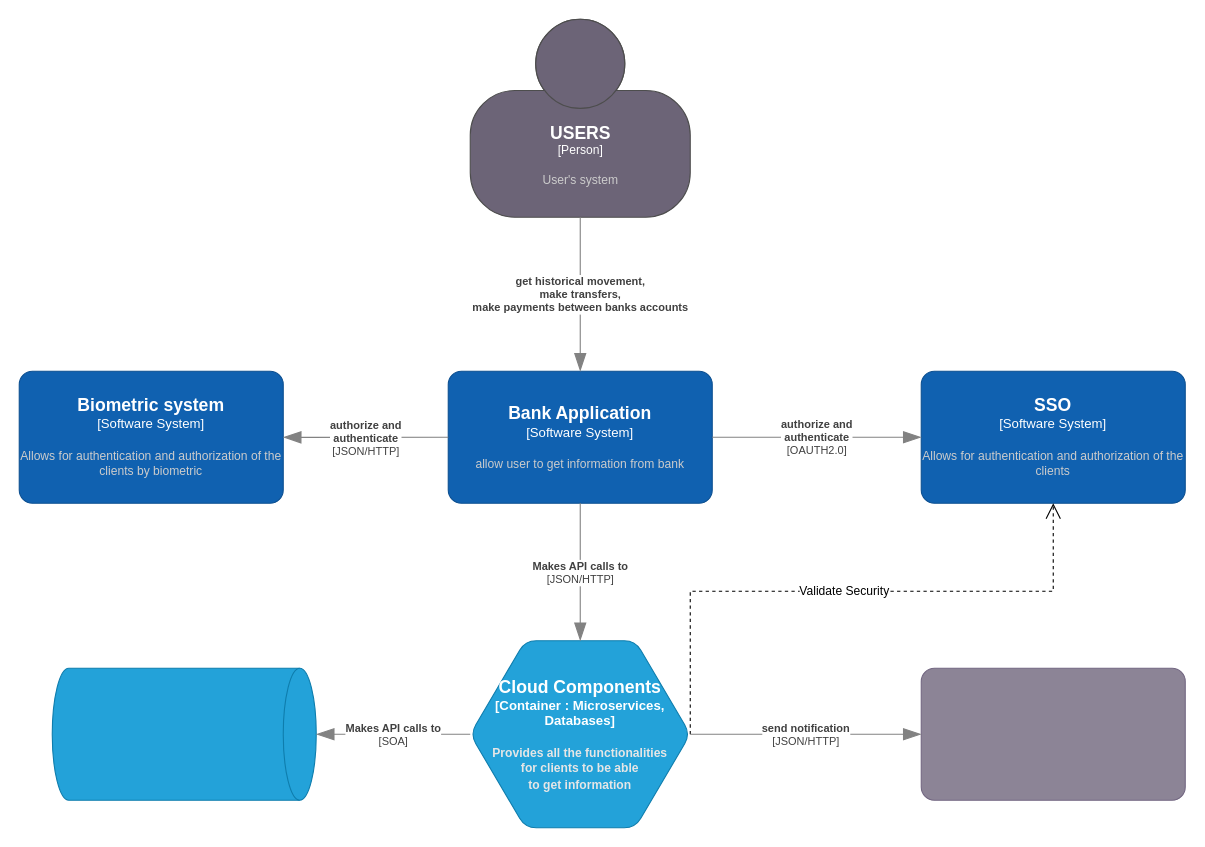
Some shapes in this 1205 by 847 pixel diagram are drawn without their labels. Each missing label, with the centre of its shape:
Core [Container : service bus] core bank that provide client's information: [183,733]
SMS service [api service] Provide a service to send sms: [1052,733]
